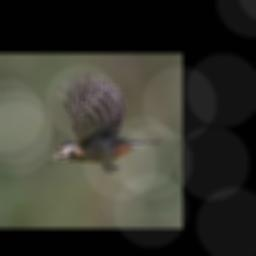Woodpecker: (43, 74, 161, 172)
